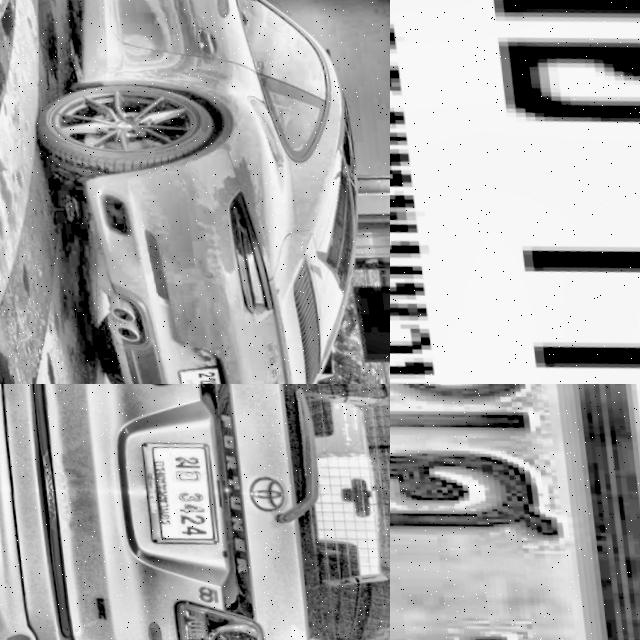license-plate: (390, 0, 640, 384), (390, 384, 640, 640), (130, 428, 220, 541), (161, 347, 237, 384)
